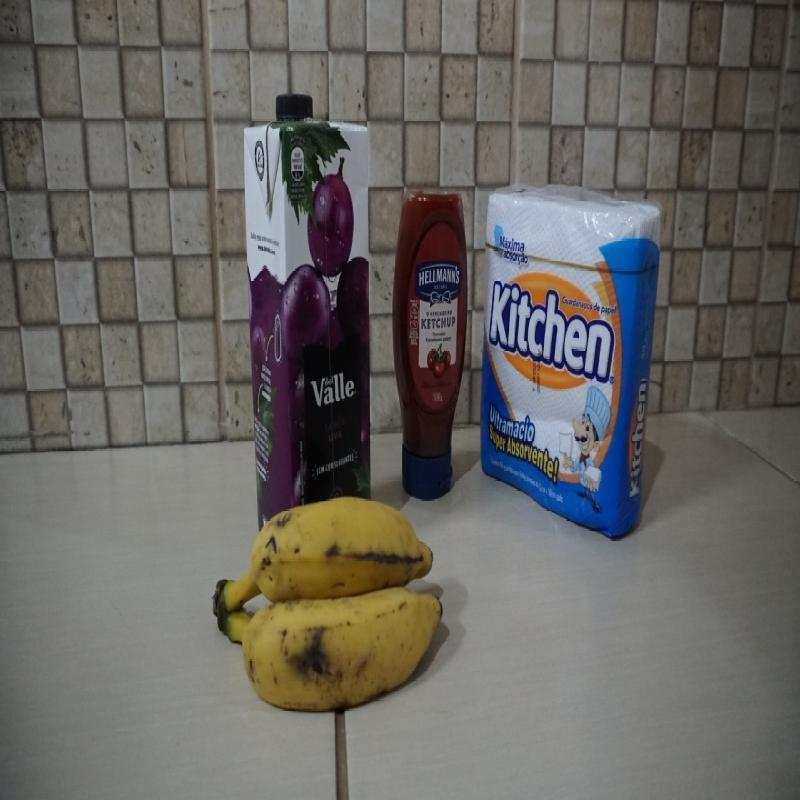Banana: (214, 494, 443, 726)
Ketchup: (393, 187, 468, 477)
Napkin: (482, 182, 666, 538)
